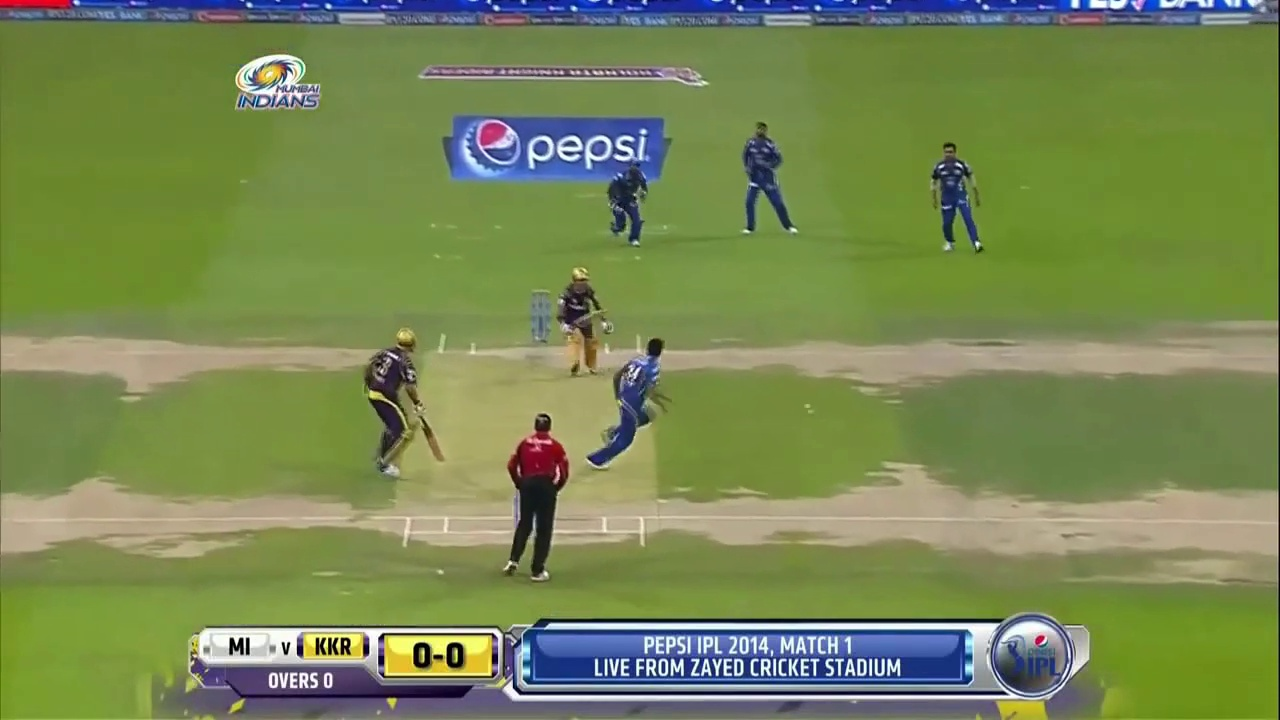bat: (420, 415, 445, 462)
